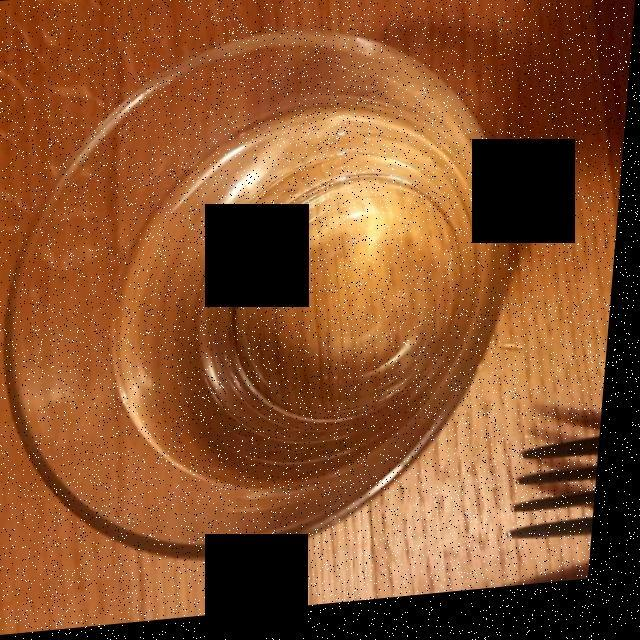water: (111, 107, 476, 519)
